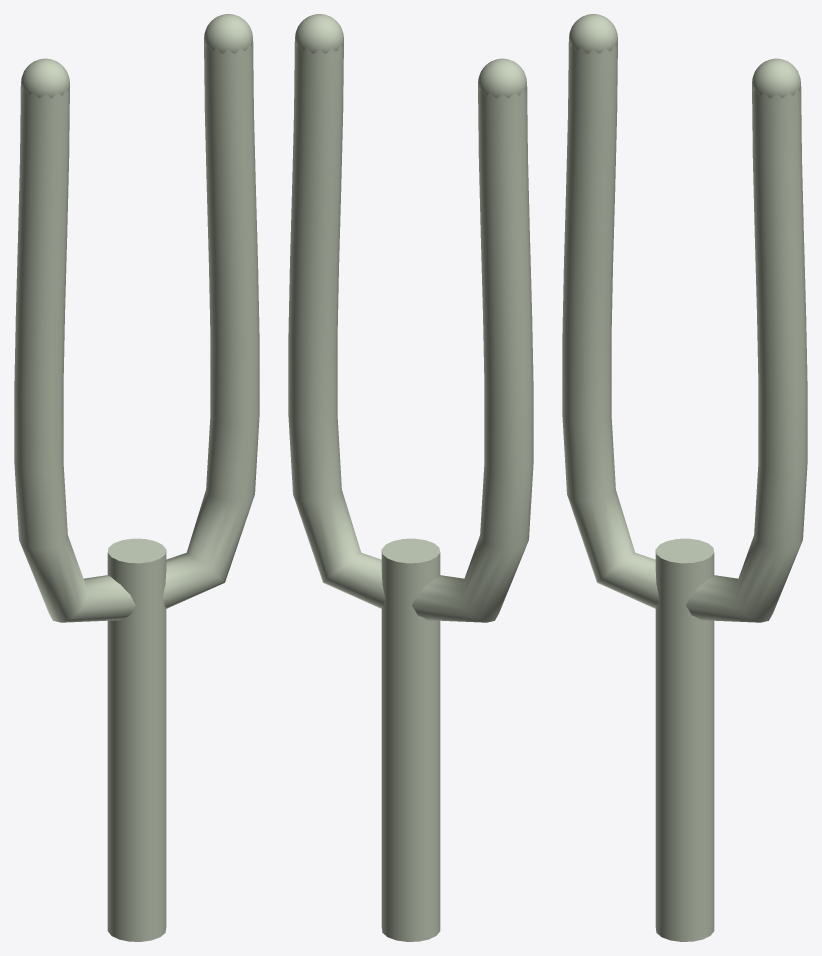
File: enchanted-harp-garden-and-music-sanctuary-tuning-fork-35b5c5d3__30409.glb
The picture shows the model from 3 angles, left to right: view 1: azimuth 30°, elevation 25°; view 2: azimuth 150°, elevation 25°; view 3: azimuth 330°, elevation 25°; orthographic projection.
Visible parts, largest first — view 1: tuning-fork; view 2: tuning-fork; view 3: tuning-fork.
Part boxes in pixels (box(x1,y1,x2,y2)): tuning-fork: box(14, 14, 259, 941); tuning-fork: box(288, 14, 533, 941); tuning-fork: box(562, 14, 807, 941).
Size of the model in its own units: 0.1121 by 0.4 by 0.024.
